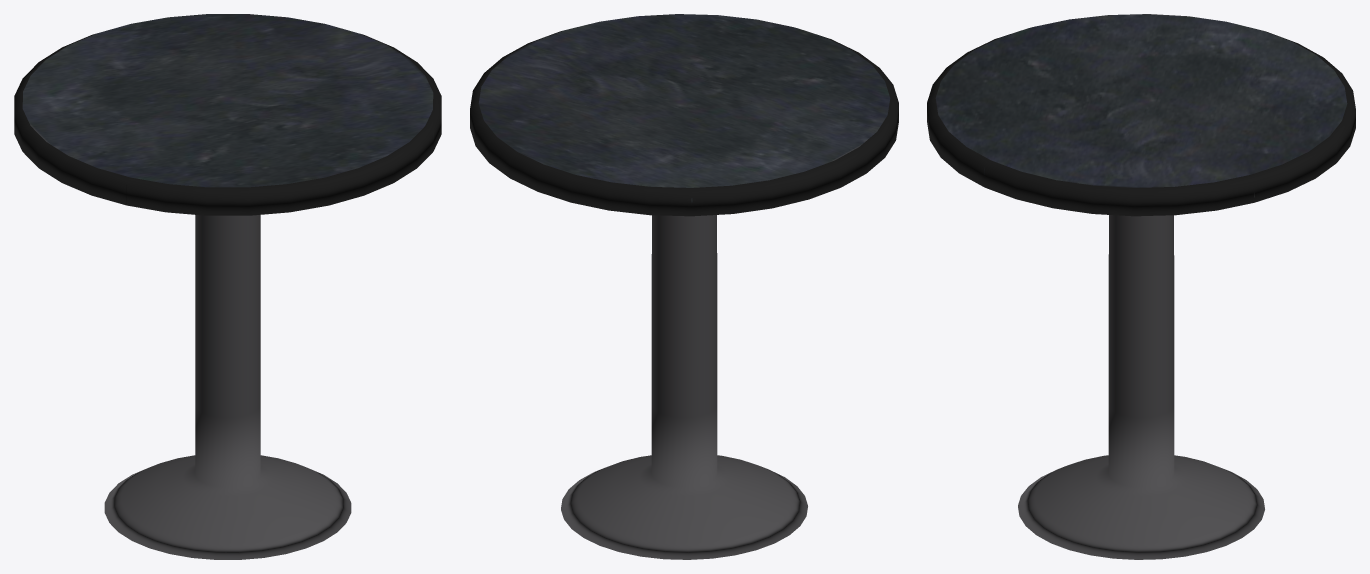
File: SB_Table.fbx
The picture shows the model from 3 angles, left to right: view 1: azimuth 30°, elevation 25°; view 2: azimuth 150°, elevation 25°; view 3: azimuth 270°, elevation 25°; orthographic projection.
Parts seen in each view (by area): view 1: SB_Table.002; view 2: SB_Table.002; view 3: SB_Table.002.
Boxes of the visible parts, left/top/right/bottom form: SB_Table.002: left=14, top=14, right=441, bottom=559; SB_Table.002: left=470, top=14, right=898, bottom=559; SB_Table.002: left=927, top=14, right=1355, bottom=559.
Bounding box in the file's own units: 237 × 248 × 237.
